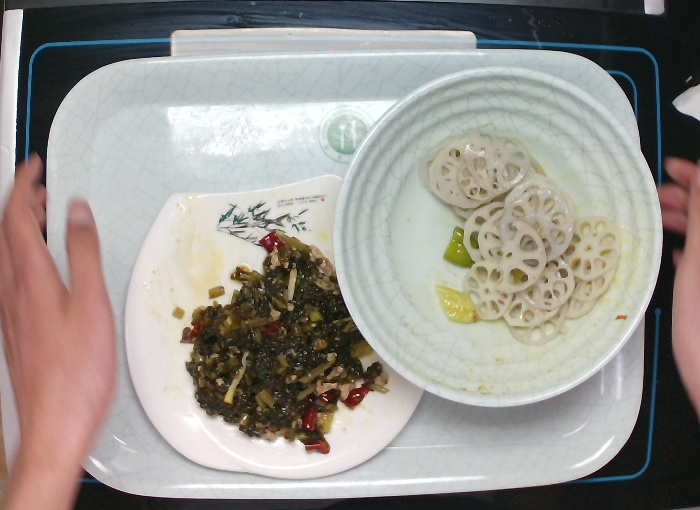JYsf-Da_Tang_Wan: (333, 67, 666, 413)
JYsf-Mian_Pan: (126, 186, 427, 474)
